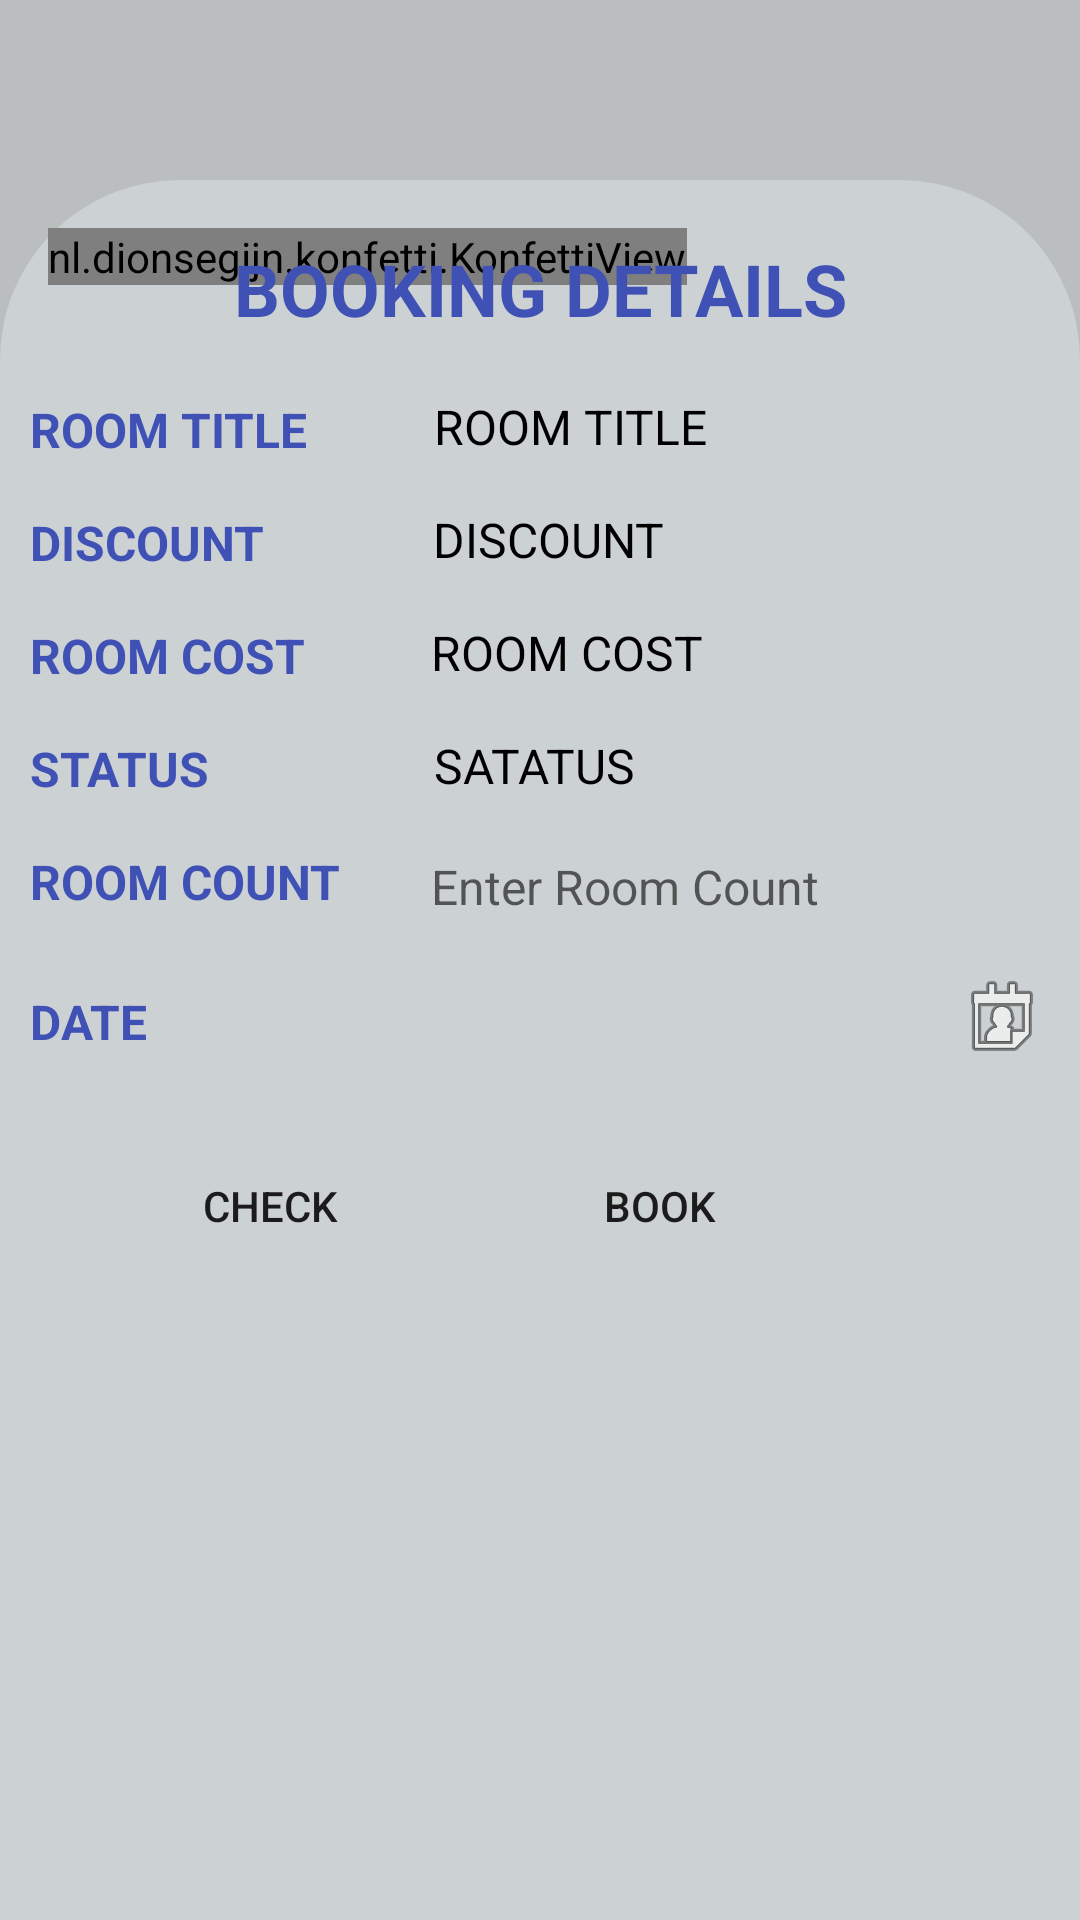

Point at icon controls on the screen. Image size 1080×1920, points as (x=x, y=y).
calendar: (x=1002, y=1016)
